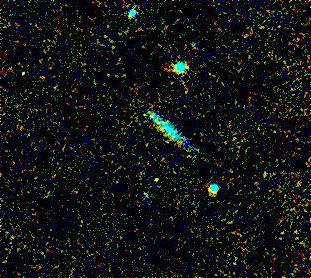star: (142, 165, 172, 195)
